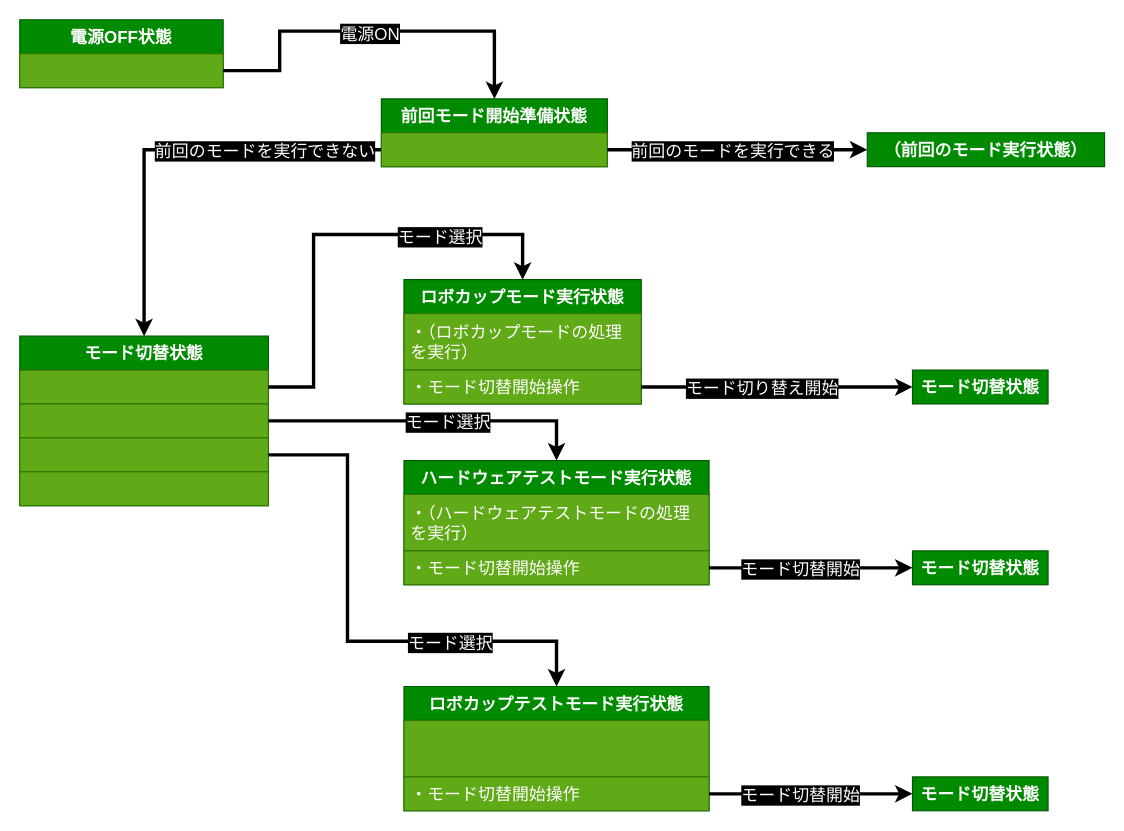
This 1124x831 diagram has some shape labels left out. Each missing label, with the centre of its shape:
"・ハードウェアテストモード" belongs at (x=143, y=420).
"・ロボカップテストモード" belongs at (x=143, y=454).
"・ロボカップモード" belongs at (x=143, y=386).
"・ロボットの電源操作" belongs at (x=121, y=70).
"・（その他のモード）" belongs at (x=143, y=488).
"・（ロボカップテストモードの処理を実行）" belongs at (x=556, y=748).
"・（操作受付なし）" belongs at (x=493, y=149).
